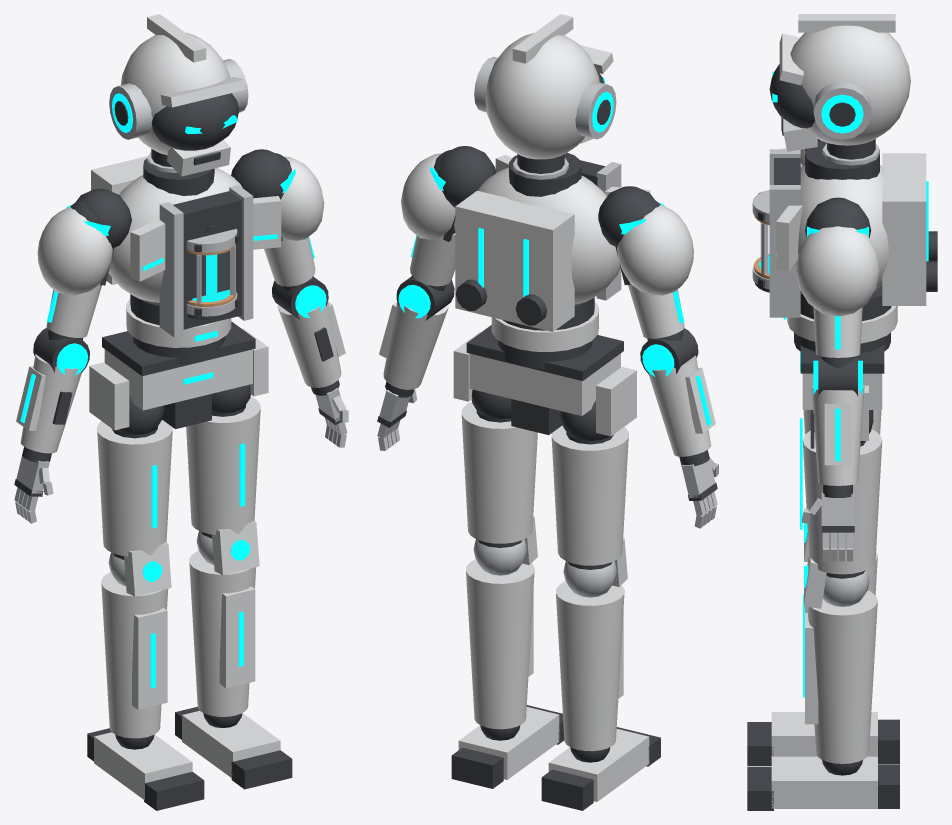
The model's file is FV_UnitR7.fbx.
3 renders of one model, left to right at view 1: azimuth 30°, elevation 25°; view 2: azimuth 150°, elevation 25°; view 3: azimuth 270°, elevation 25°, orthographic. The views are drawn at different scales.
Visible parts, largest first — view 1: R7_Body, R7_Arm_R, R7_Head, R7_Arm_L, R7_PowerCore; view 2: R7_Body, R7_Arm_R, R7_Head, R7_Arm_L; view 3: R7_Body, R7_Arm_L, R7_Head, R7_PowerCore.
Part boxes in pixels (<box>): R7_Body: <box>76,149,292,810</box>; R7_Arm_R: <box>14,200,114,523</box>; R7_Head: <box>109,14,248,176</box>; R7_Arm_L: <box>264,153,348,447</box>; R7_PowerCore: <box>186,224,239,319</box>; R7_Body: <box>437,146,660,810</box>; R7_Arm_R: <box>615,198,718,528</box>; R7_Head: <box>474,14,616,179</box>; R7_Arm_L: <box>377,150,455,450</box>; R7_Body: <box>747,139,937,810</box>; R7_Arm_L: <box>796,215,879,561</box>; R7_Head: <box>769,14,910,165</box>; R7_PowerCore: <box>752,189,801,292</box>.
Bounding box in the file's own units: 0.8696 × 1.89 × 0.43.
